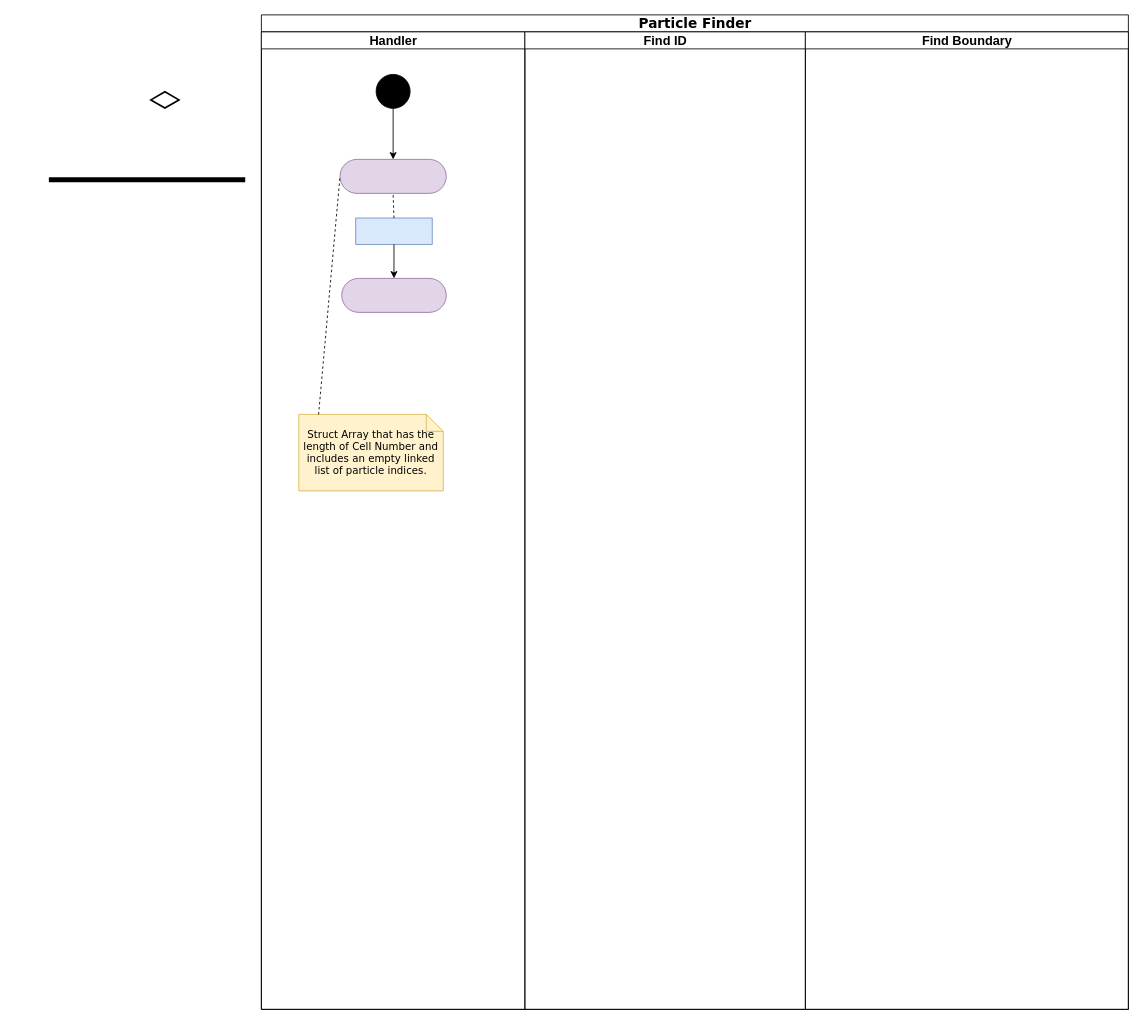
The diagram is 1143 pixels wide and 1024 high, and some of its shapes have lost their labels. The shapes that lost their labels are listed below. From the top down, each one's centre as x and y in pixels, then its label:
the point at 392,176: Send Particle position and Boundaries
the point at 393,230: Vec3[], Struct Bounds
the point at 393,295: Send Particles Radius and Groups
